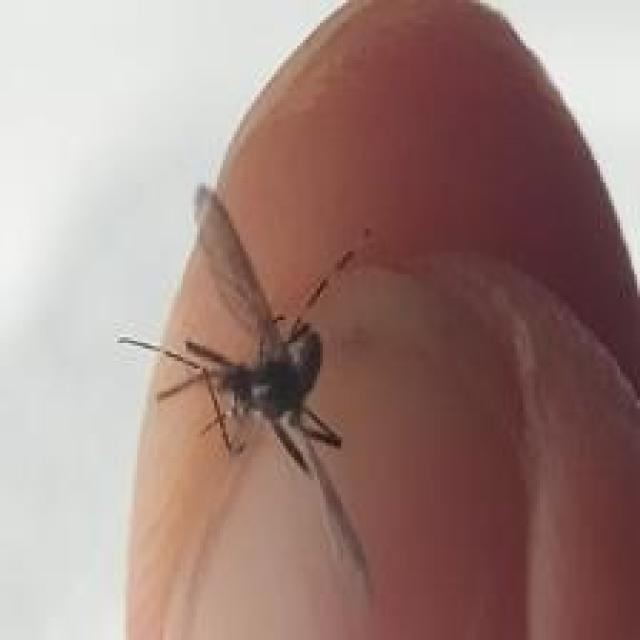Aedes albopictus: (116, 180, 376, 594)
